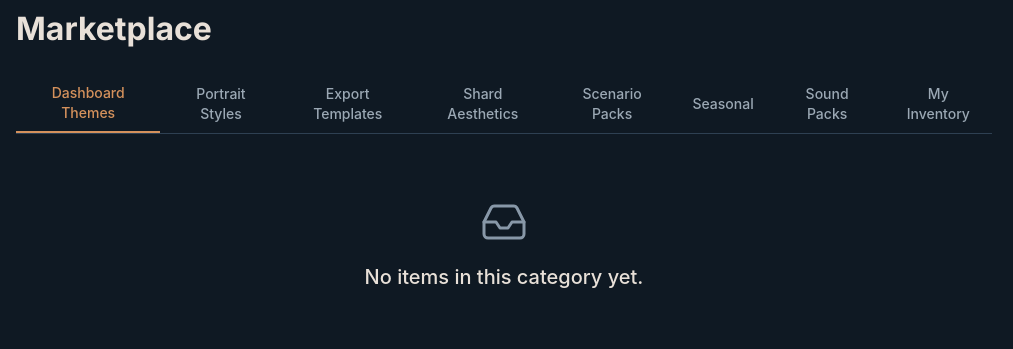
it: MarketplacePage — a failed equip reads the list again (R285.3) › a reload that fails after a failed equip shows the load error
The image size is (1013, 349).
Click the tab "My Inventory" at (938, 104), box x1=884 y1=75 x2=992 y2=133
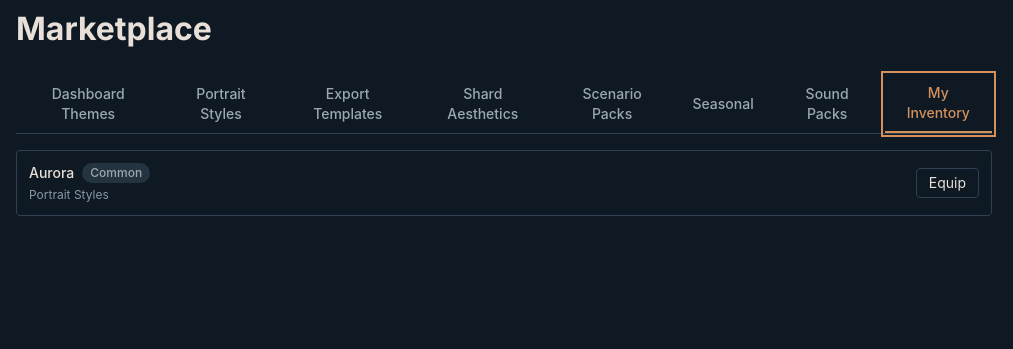
Click the button "Equip" at (947, 183), box x1=916 y1=168 x2=979 y2=198
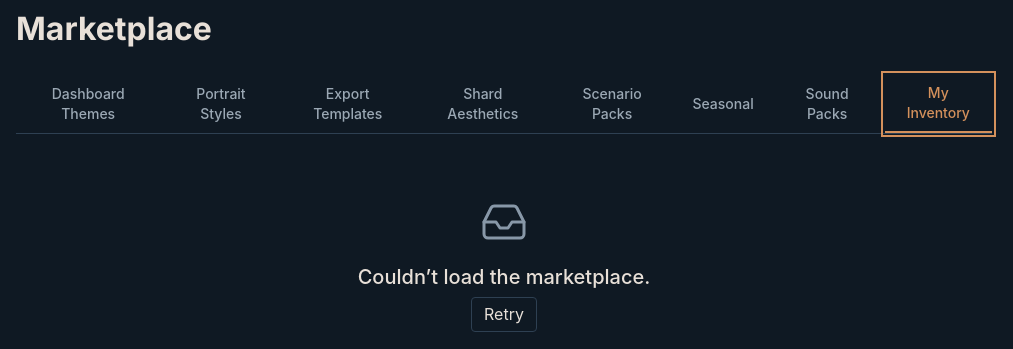
Expected: the element with test id "marketplace-load-error" shows "Couldn’t load the marketplace.", x1=358 y1=265 x2=650 y2=289
